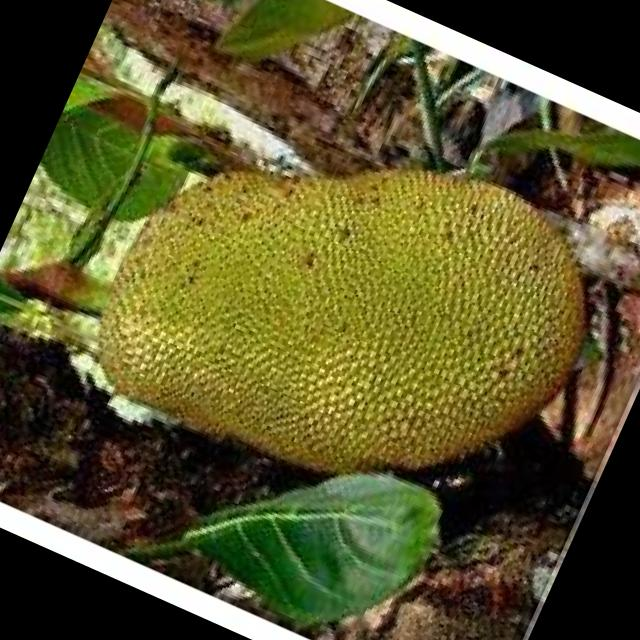Fruit: (36, 49, 598, 592)
